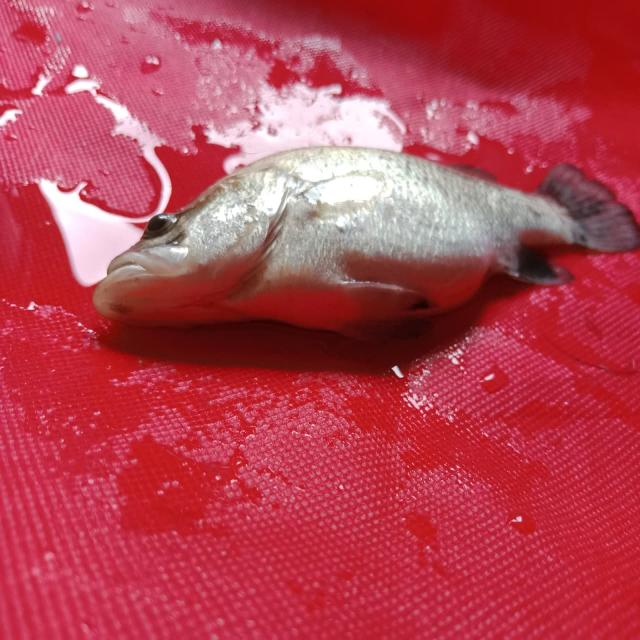ikan: (88, 125, 618, 374)
